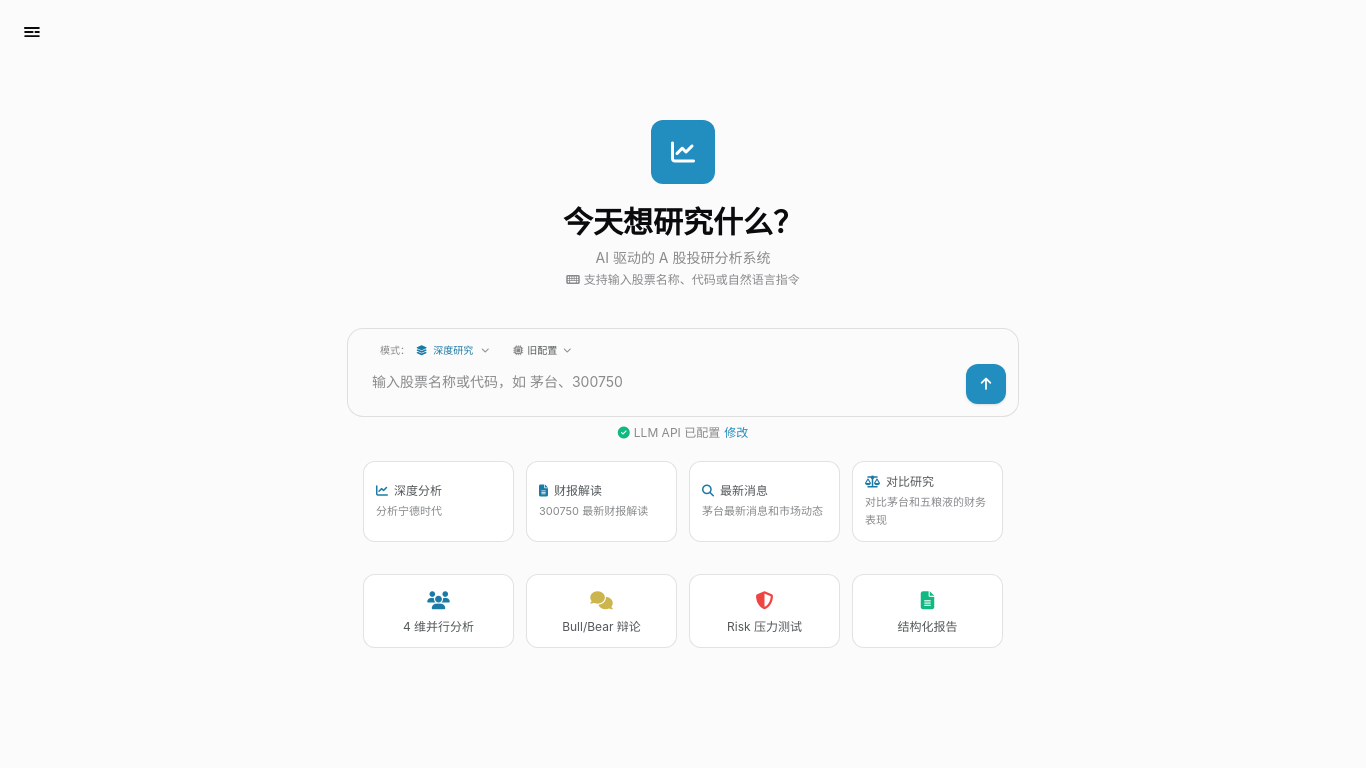
Test: 移动端抽屉（add-collapsible-sidebar 窄视口补验） › 收起态持久化时打开抽屉，仍渲染展开内容（会话列表可见）
The image size is (1366, 768).
// 移动端抽屉关闭时不渲染侧边栏，先开抽屉
Click the button with test id "sidebar-trigger". click: (32,32)
box: [12,12,52,52]
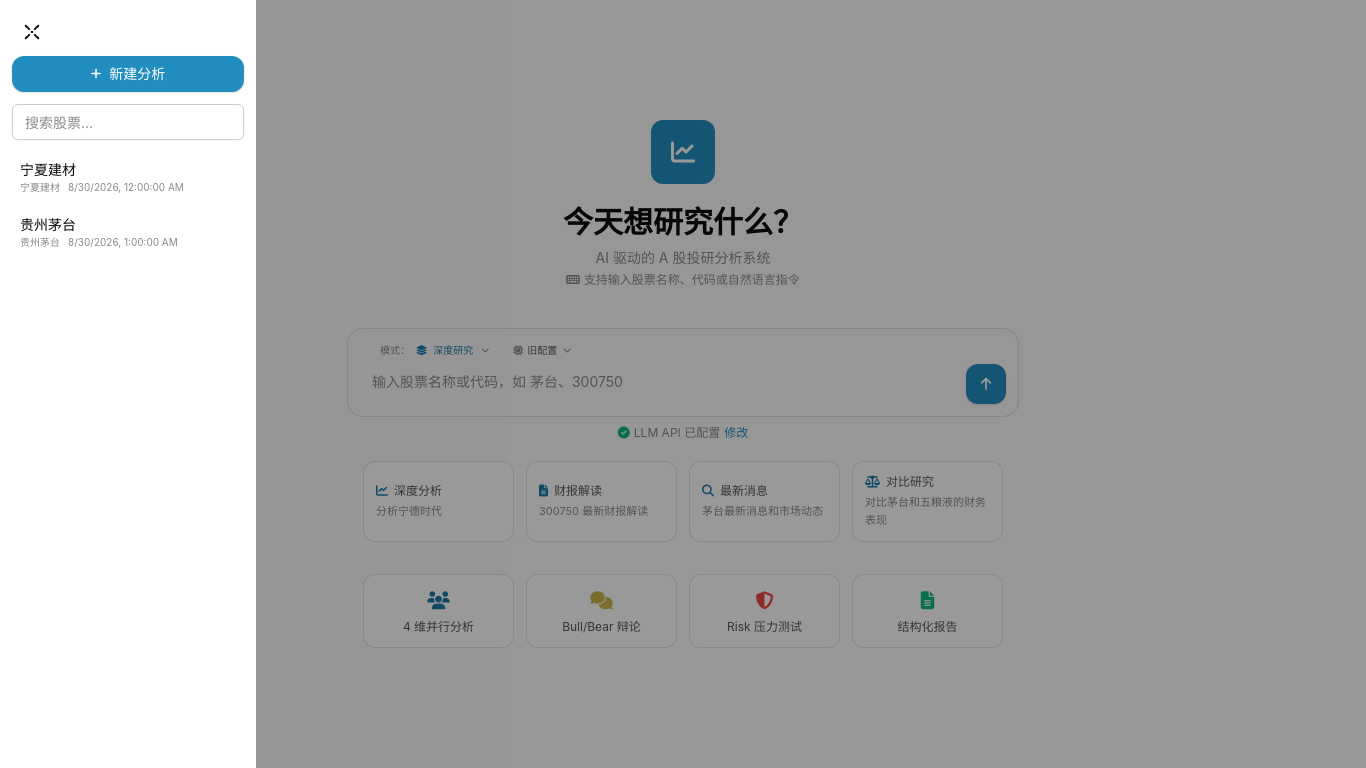
Expected: the element with test id "sidebar-overlay" is shown
Expected: the element with test id "session-list" is shown, [20,161,184,248]
Expected: the 1st text "宁夏建材" is shown, [20,161,76,178]
